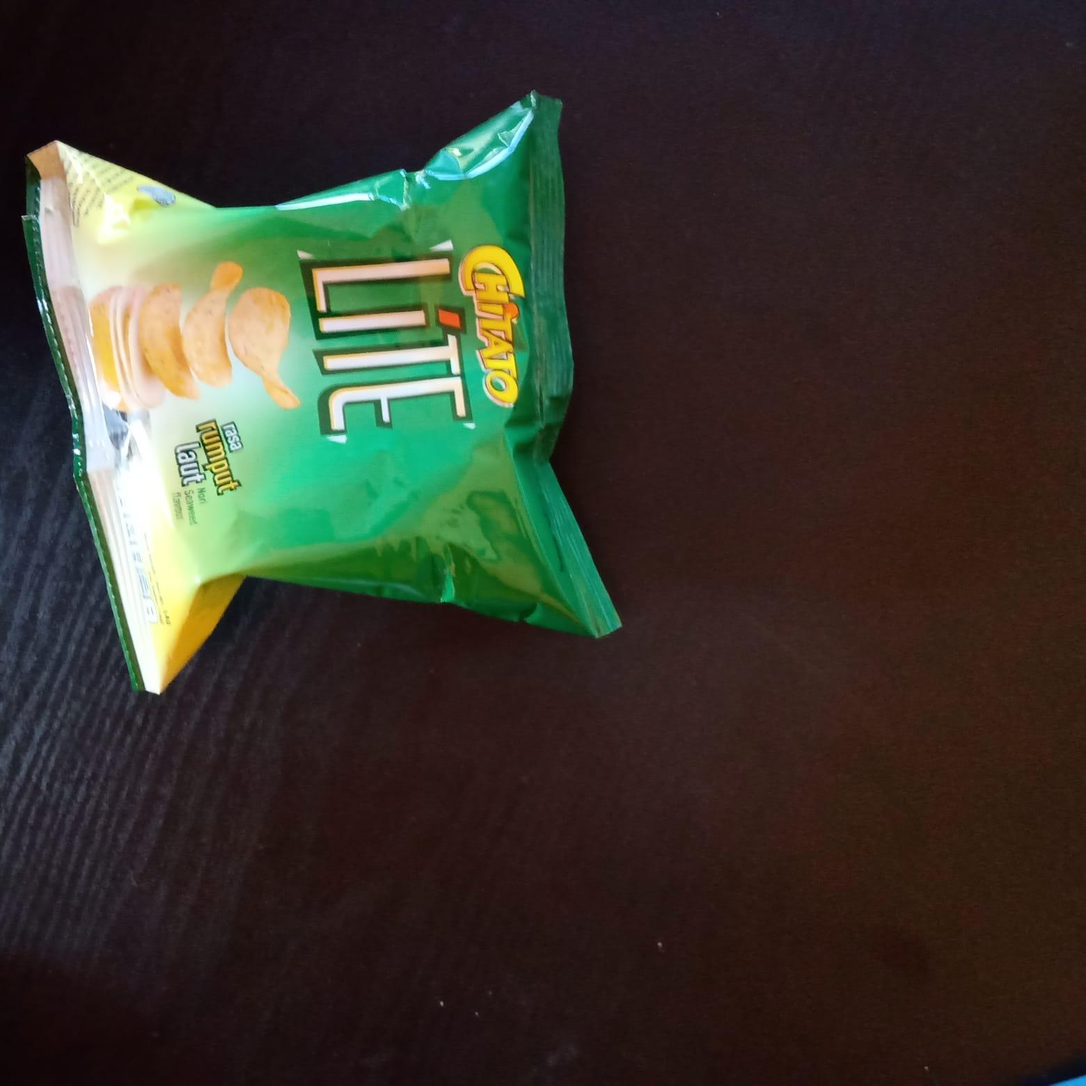Plastik: (28, 94, 628, 695)
